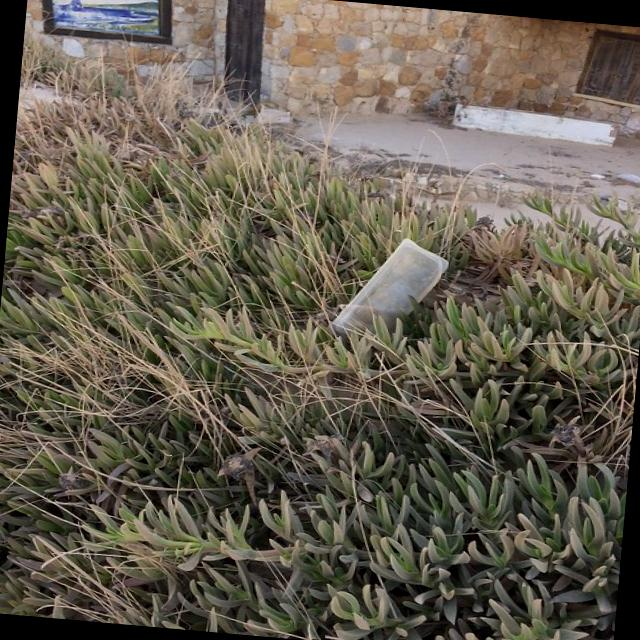Trash: (331, 228, 453, 350)
